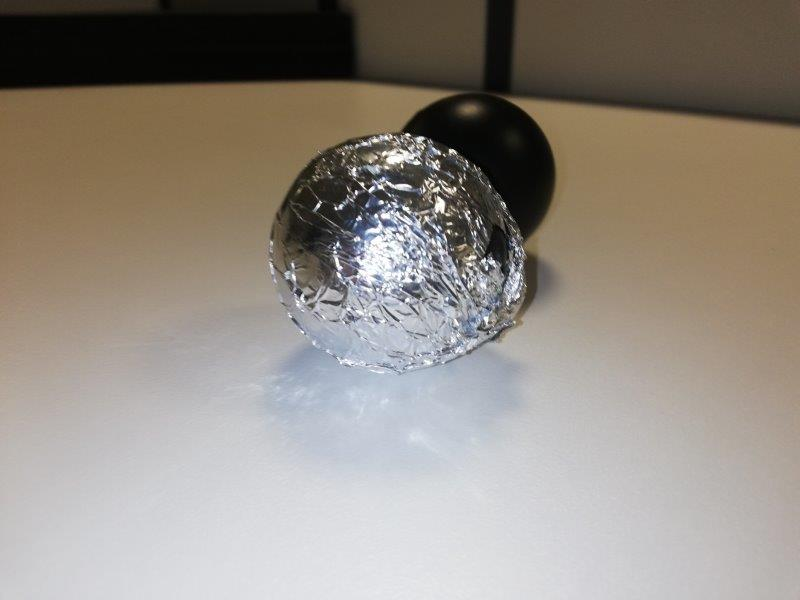bianca: (268, 130, 521, 363)
nera: (402, 93, 551, 242)
